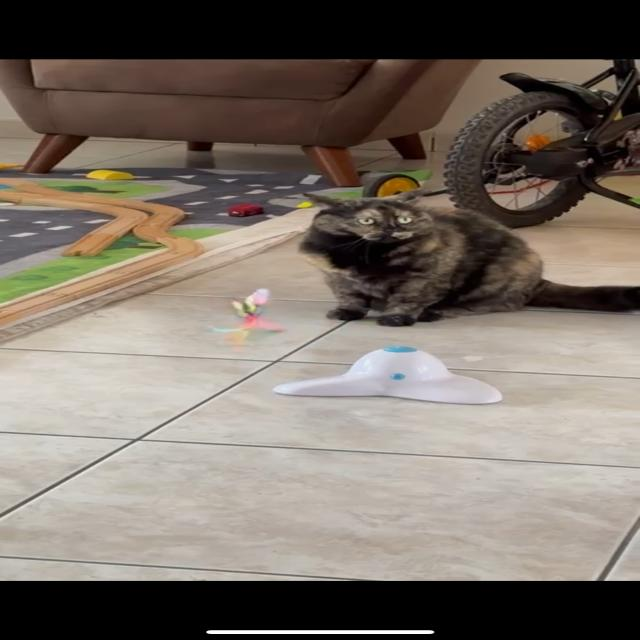authorized: (297, 187, 638, 327)
